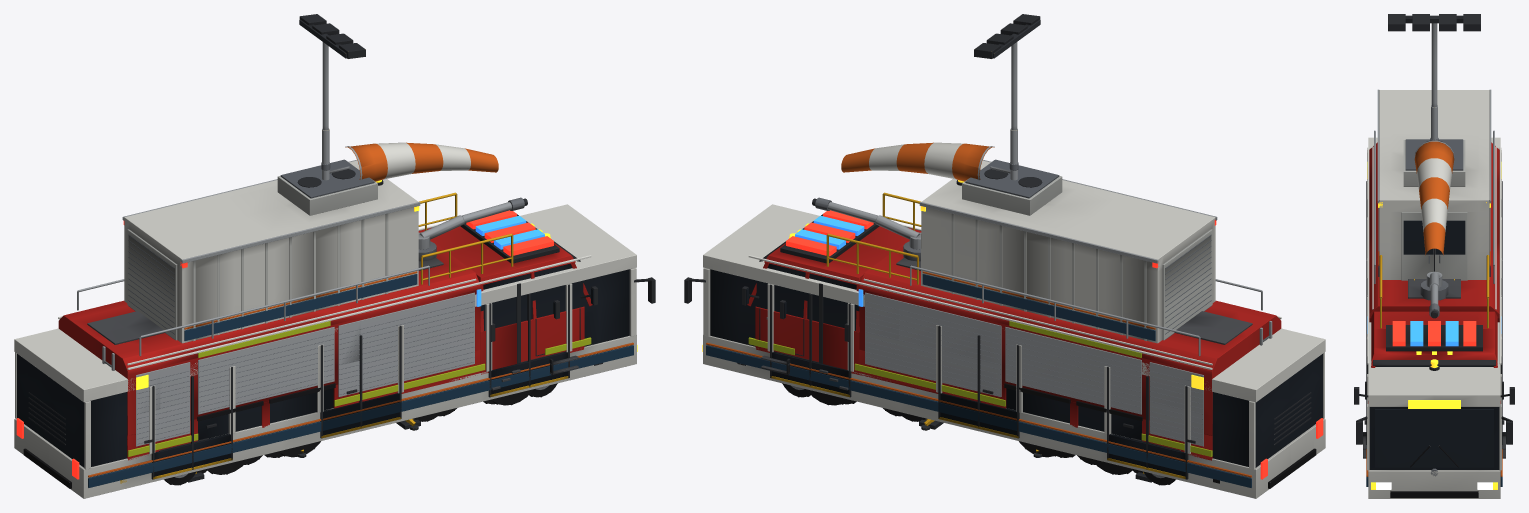
The model's file is airgse.glb.
3 renders of one model, left to right at view 1: azimuth 30°, elevation 25°; view 2: azimuth 150°, elevation 25°; view 3: azimuth 270°, elevation 25°, orthographic. The views are drawn at different scales.
Visible parts, largest first — view 1: gse_arff, gse_bus, gse_cater, gse_sock, gse_tower; view 2: gse_arff, gse_bus, gse_cater, gse_sock, gse_tower; view 3: gse_bus, gse_cater, gse_arff, gse_sock, gse_tower.
Boxes of the visible parts, x1=… form: gse_arff: x1=58, y1=197, x2=602, y2=483; gse_bus: x1=14, y1=204, x2=655, y2=498; gse_cater: x1=122, y1=159, x2=513, y2=482; gse_sock: x1=321, y1=142, x2=498, y2=181; gse_tower: x1=298, y1=14, x2=418, y2=457; gse_arff: x1=737, y1=197, x2=1281, y2=483; gse_bus: x1=684, y1=204, x2=1325, y2=498; gse_cater: x1=826, y1=159, x2=1217, y2=482; gse_sock: x1=841, y1=142, x2=1018, y2=181; gse_tower: x1=921, y1=14, x2=1041, y2=457; gse_bus: x1=1356, y1=137, x2=1512, y2=498; gse_cater: x1=1377, y1=89, x2=1491, y2=328; gse_arff: x1=1354, y1=130, x2=1514, y2=476; gse_sock: x1=1413, y1=138, x2=1455, y2=255; gse_tower: x1=1388, y1=14, x2=1480, y2=139.
Size of the model in its own units: 14.16 by 9.2 by 3.64.
